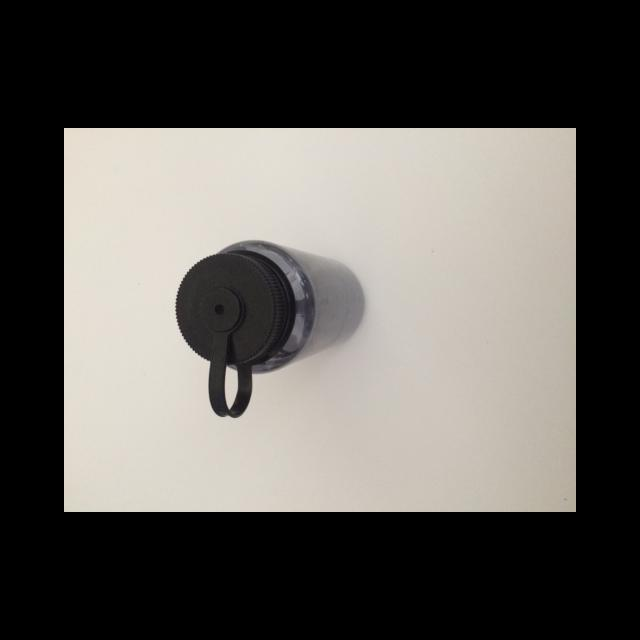plastic: (174, 238, 363, 417), (173, 249, 294, 415)
